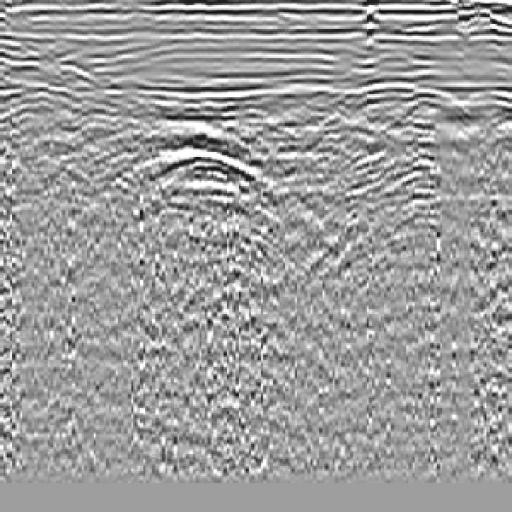metalic: (333, 74, 480, 252)
non-metallic: (129, 135, 277, 198)
